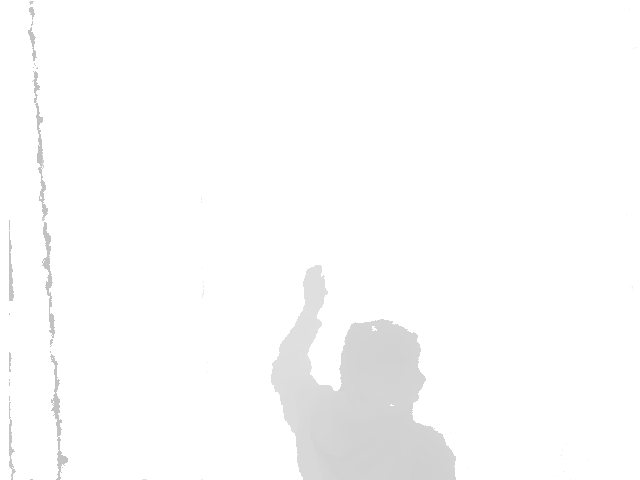hand: (300, 263, 329, 315)
head: (337, 316, 425, 412)
person: (269, 263, 456, 479)
